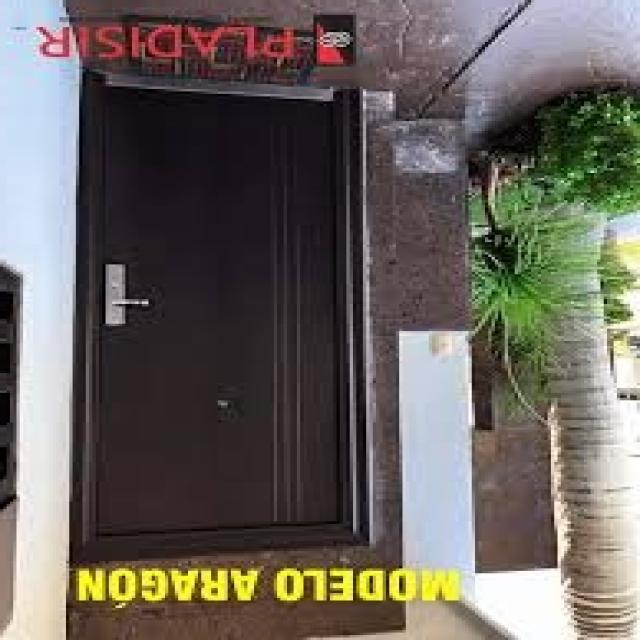door: (77, 71, 358, 554)
